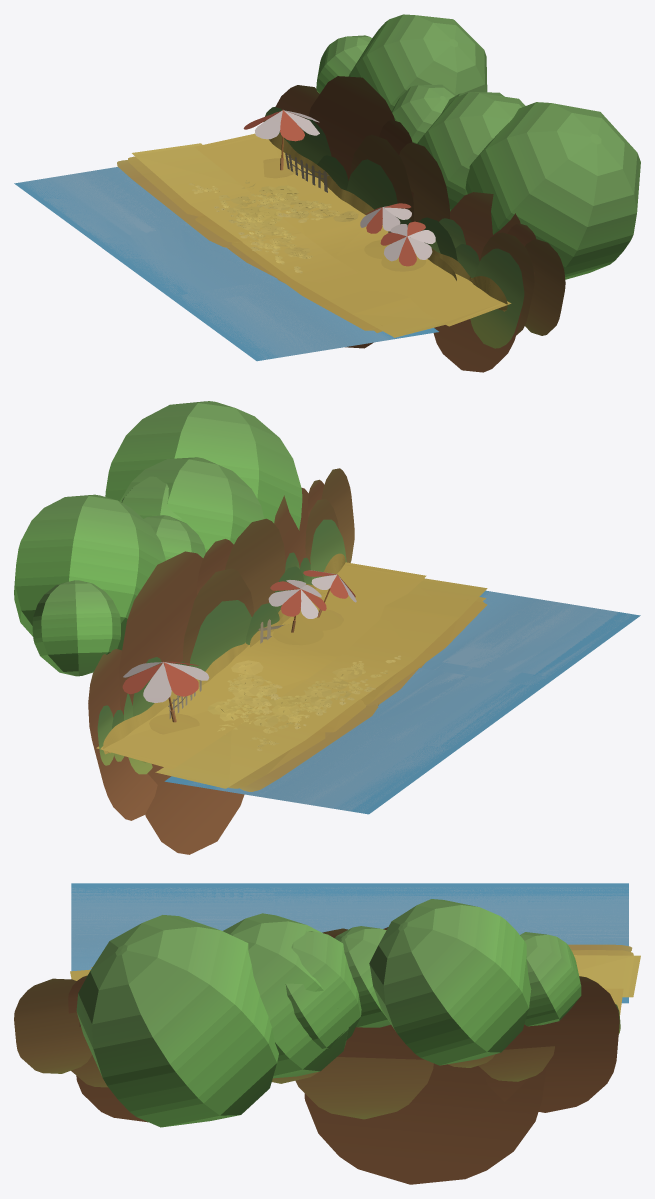
The model's file is countdown_set.fbx.
3 views of the same model, one above another, from view 1: azimuth 30°, elevation 25°; view 2: azimuth 150°, elevation 25°; view 3: azimuth 270°, elevation 25° (orthographic). The views are drawn at different scales.
Visible parts, largest first — view 1: Beach, Waves1; view 2: Beach, Waves1; view 3: Beach, Waves1.
Part boxes in pixels (x1,y1,x2,y2): Beach: [117, 14, 640, 372]; Waves1: [14, 167, 438, 361]; Beach: [14, 401, 487, 854]; Waves1: [164, 590, 640, 814]; Beach: [14, 899, 640, 1184]; Waves1: [71, 883, 628, 1003].
Bounding box in the file's own units: 58.6 × 38.49 × 65.29.
